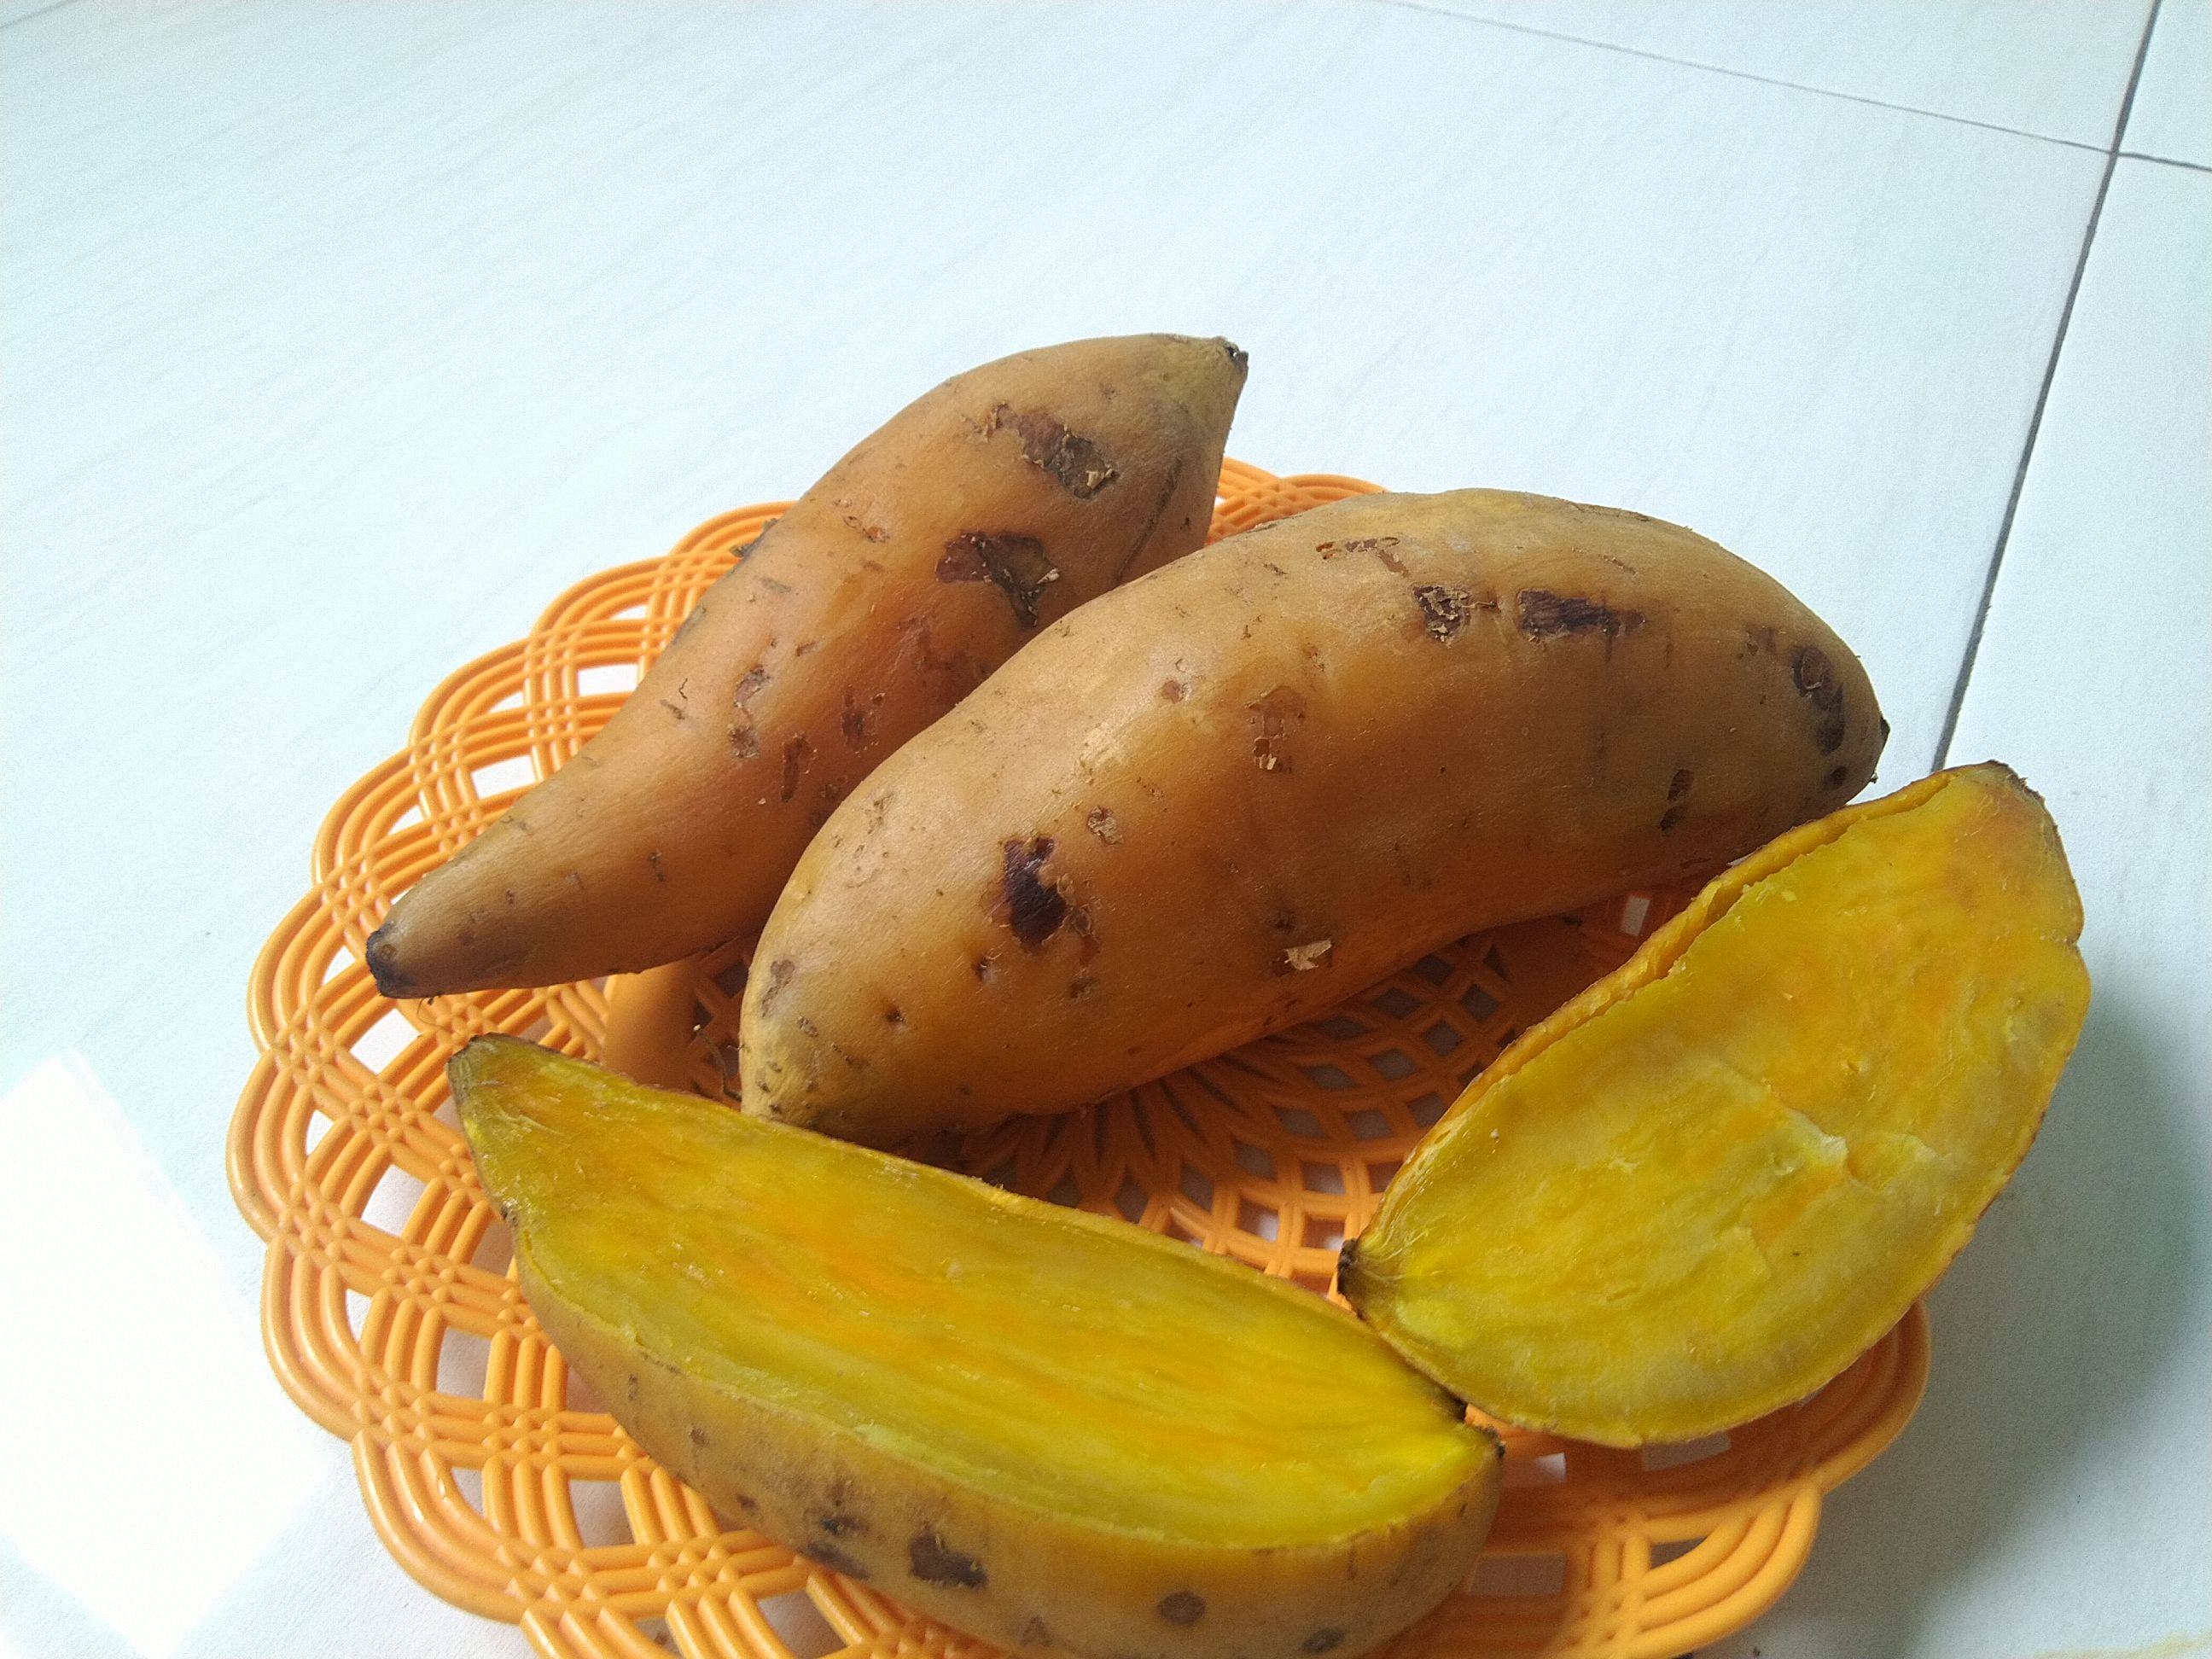ubi cilembu: (737, 471, 1897, 1157), (428, 1039, 1503, 1640), (368, 324, 1284, 1014), (1334, 753, 2101, 1460)
